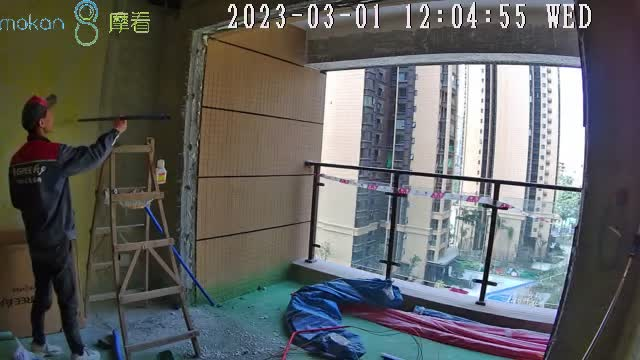people: (9, 94, 128, 360)
window: (310, 64, 586, 310)
